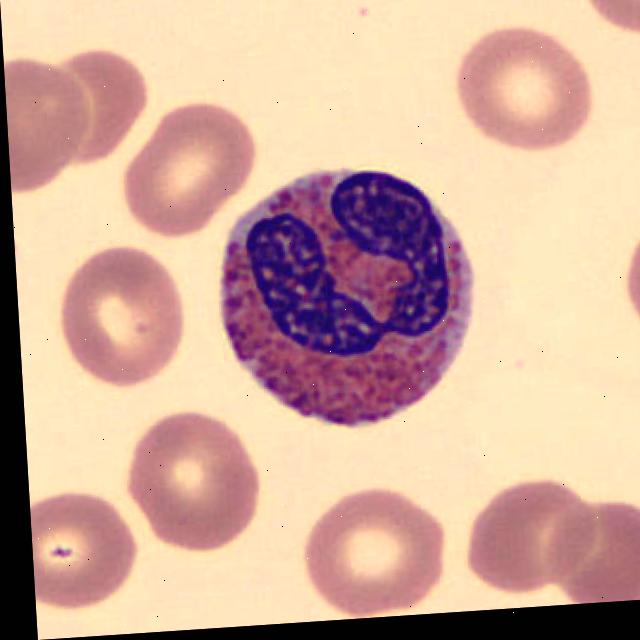eosinophil: (210, 145, 495, 444)
rbc: (115, 89, 267, 244), (56, 234, 192, 399), (297, 482, 457, 621), (127, 406, 266, 564), (457, 19, 606, 161), (29, 477, 148, 629), (3, 41, 102, 212), (463, 472, 605, 588), (38, 40, 158, 172), (544, 496, 640, 606), (606, 205, 640, 358), (576, 0, 640, 63)
